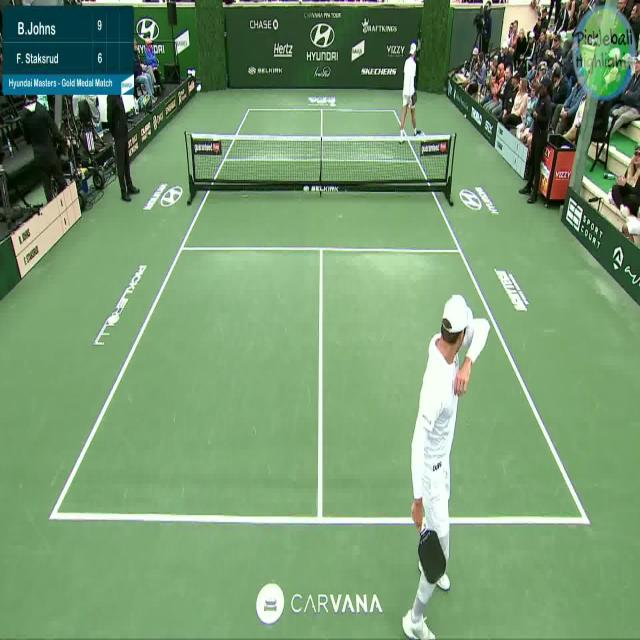ball: (462, 107, 468, 123)
